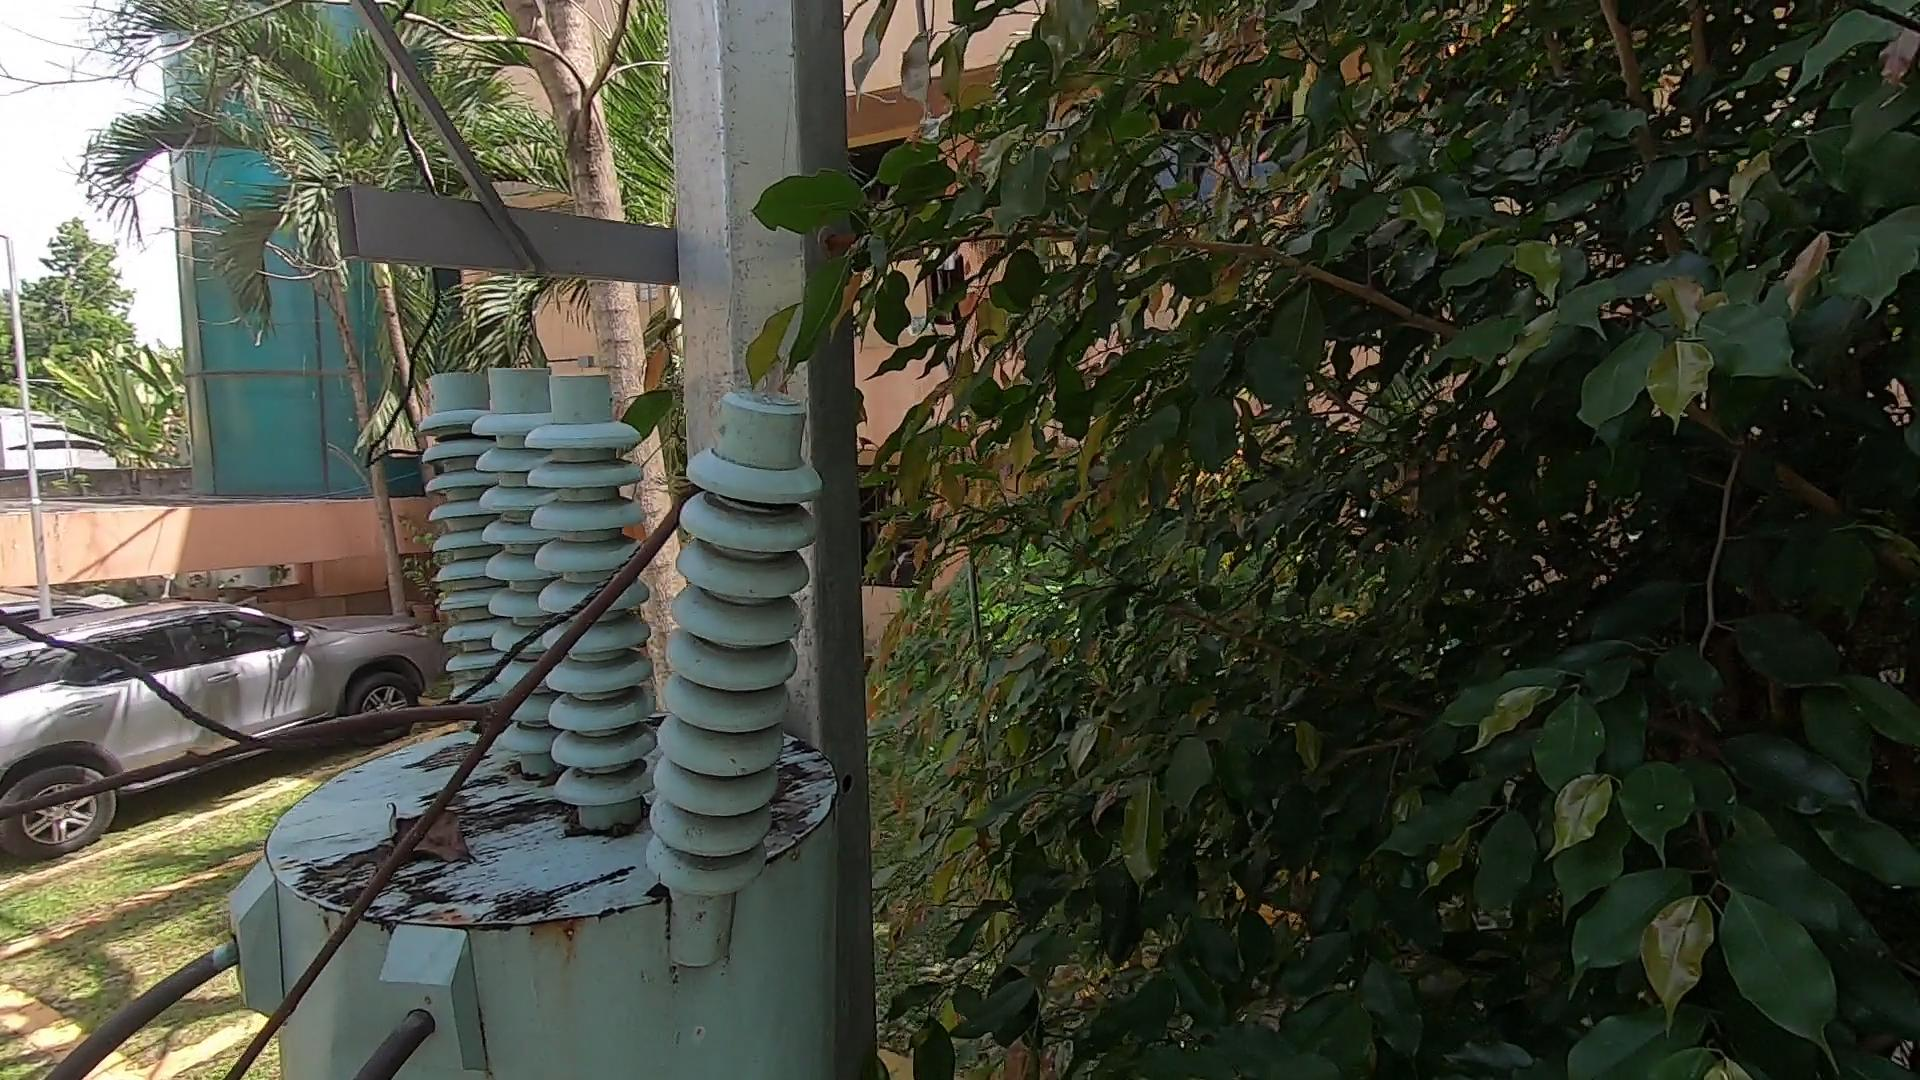leaf: (378, 800, 504, 891)
tree branch: (32, 475, 738, 1069)
